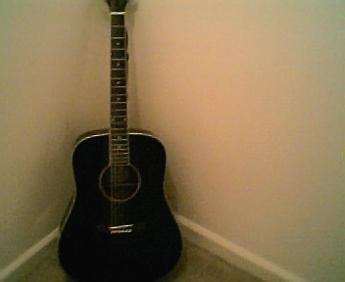guitar: (57, 1, 183, 279)
